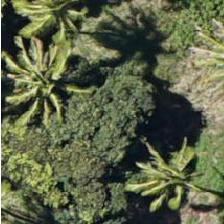Kelapa_Sawit: (118, 128, 208, 218), (0, 39, 88, 129)
